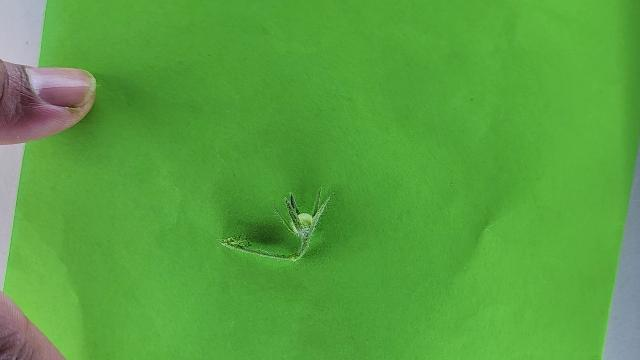Fruit Bud: (275, 186, 330, 242)
